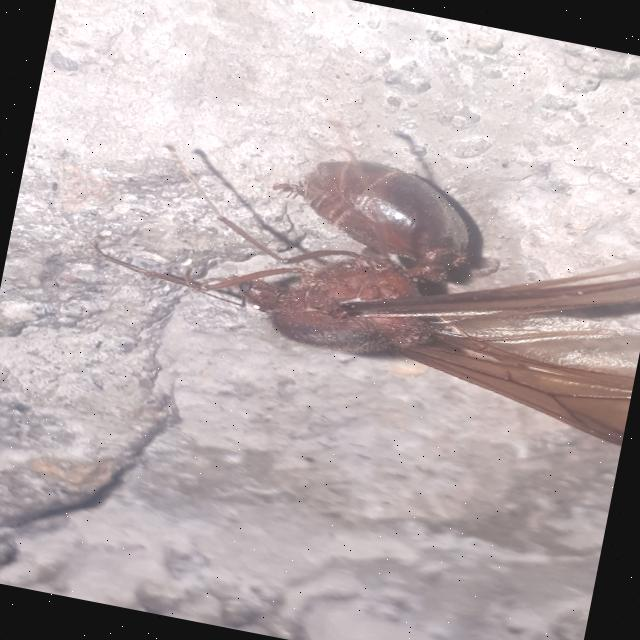Dead-Male-Alate: (69, 77, 640, 447)
